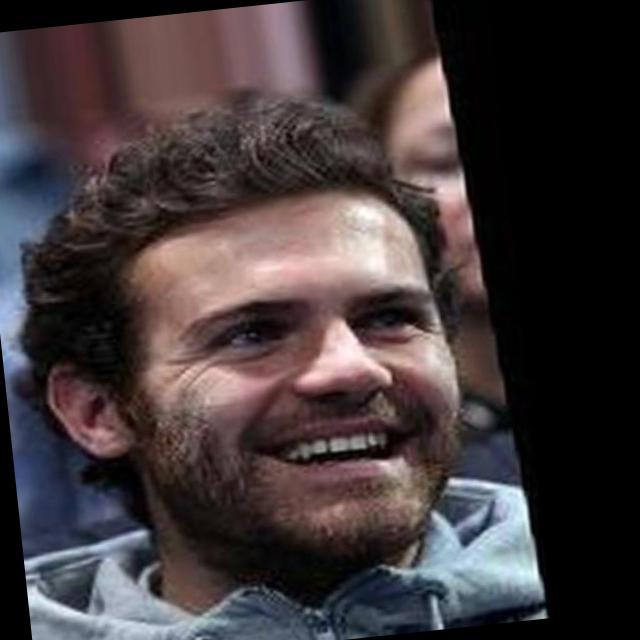bareface: (4, 105, 490, 606)
